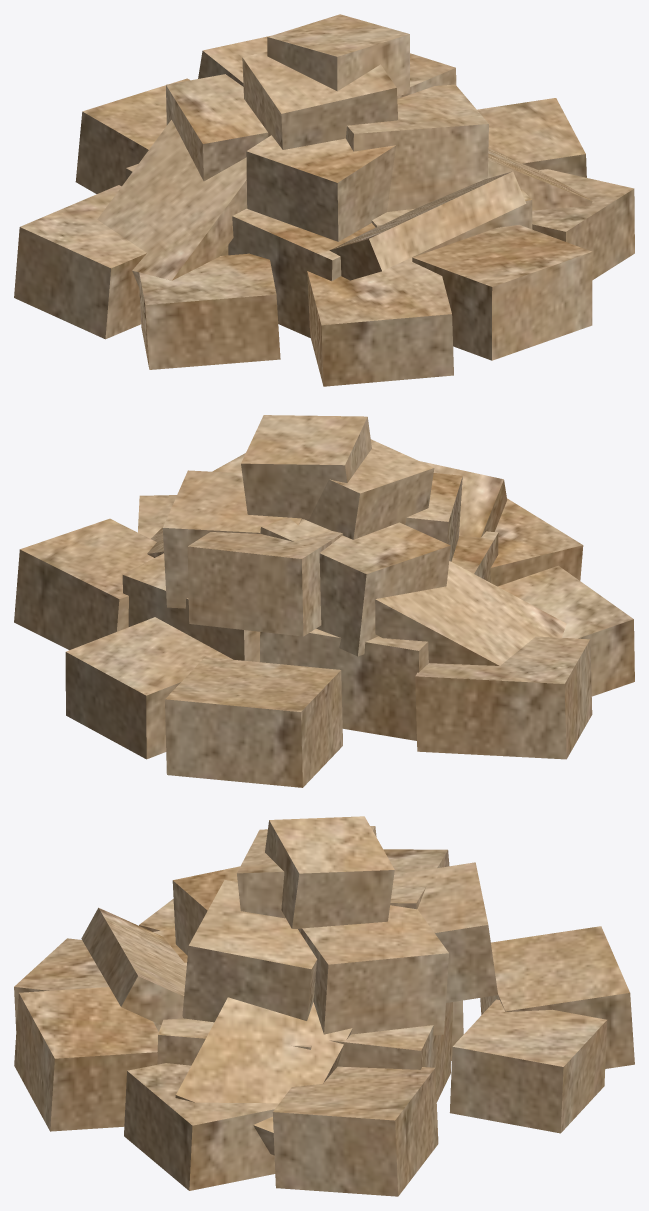
File: rubble_pile_v3_tex.glb
3 views of the same model, one above another, from view 1: azimuth 30°, elevation 25°; view 2: azimuth 150°, elevation 25°; view 3: azimuth 270°, elevation 25° (orthographic). The views are drawn at different scales.
Visible parts, largest first — view 1: rubble_pile_v3; view 2: rubble_pile_v3; view 3: rubble_pile_v3.
Boxes of the visible parts, x1,y1,x2,y2 form: rubble_pile_v3: [14, 14, 634, 386]; rubble_pile_v3: [14, 415, 634, 787]; rubble_pile_v3: [14, 816, 634, 1196].
Bounding box in the file's own units: 1.43 × 0.596 × 1.36.
1 material, 1 textured.
